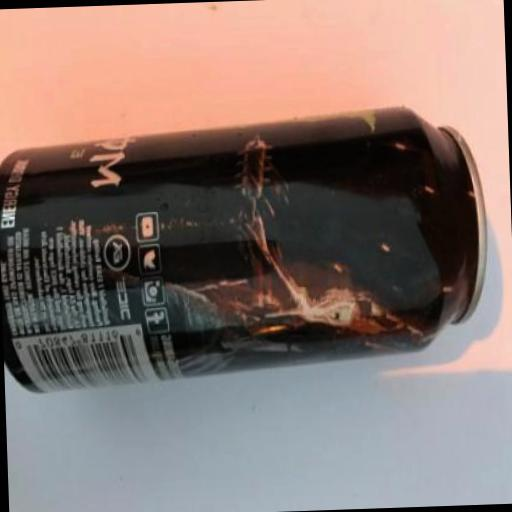metal: (0, 103, 490, 394)
